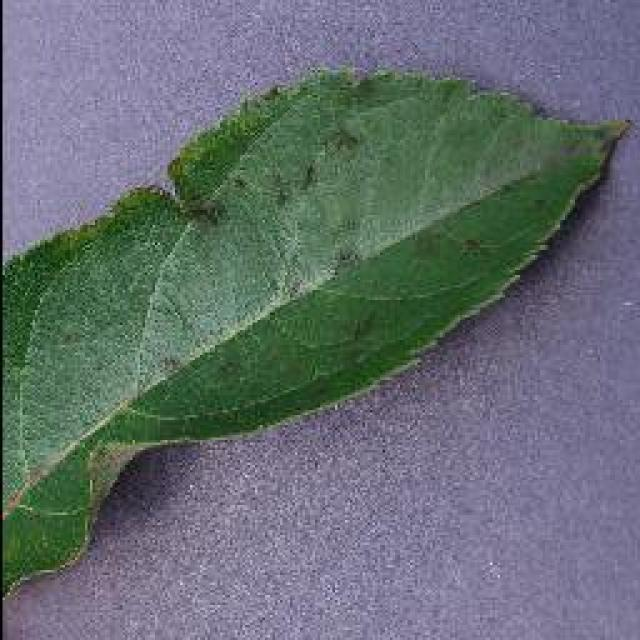apple scab disease: (0, 60, 632, 605)
